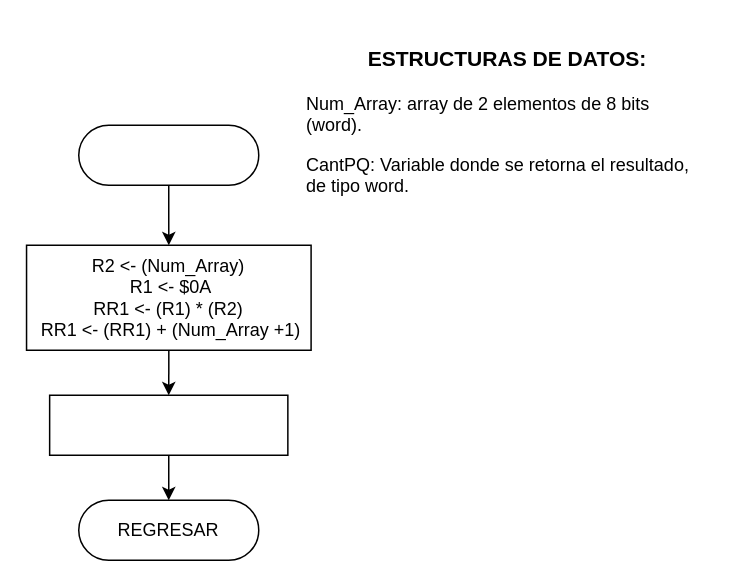
Some shapes in this 734 by 587 pixel diagram are drawn without their labels. The centre of each missing label's shape, as x and y in pixels:
BCD-BIN: pixel 168 154
CantPQ<- (RR1): pixel 168 424
